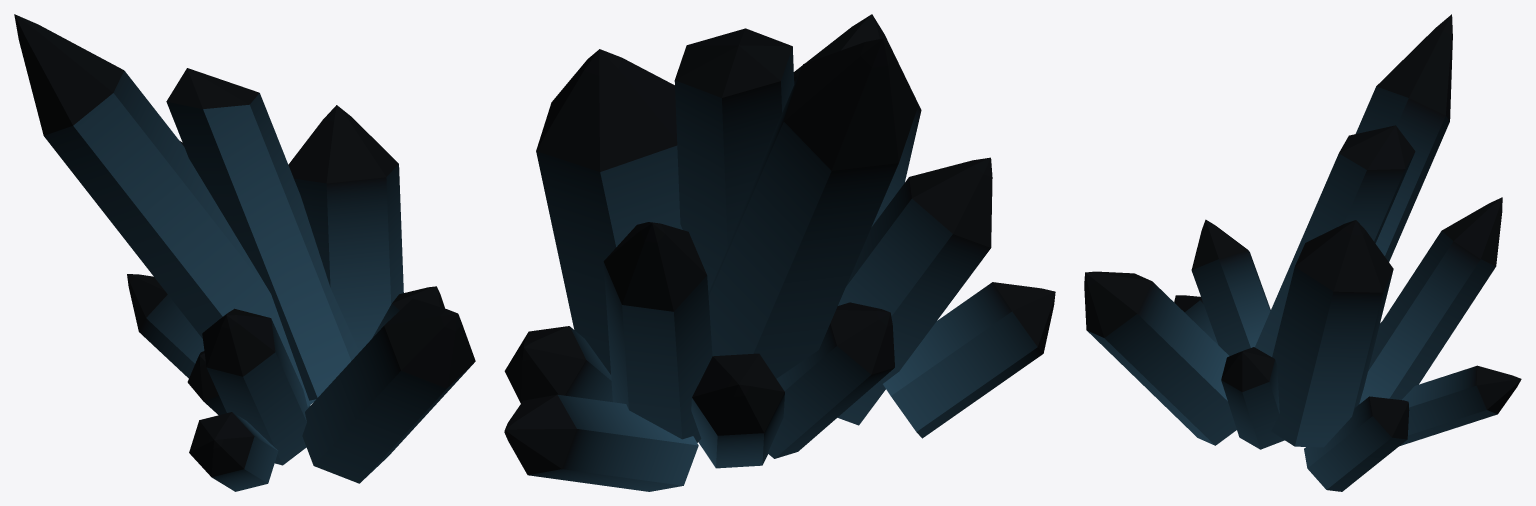
Rendered from CrystalCluster_Medium3.fbx.
3 views of the same model, side by side, from view 1: azimuth 30°, elevation 25°; view 2: azimuth 150°, elevation 25°; view 3: azimuth 270°, elevation 25° (orthographic). The views are drawn at different scales.
Visible parts, largest first — view 1: CrystalCluster_Medium3; view 2: CrystalCluster_Medium3; view 3: CrystalCluster_Medium3.
Boxes of the visible parts, bbox=[...] form: CrystalCluster_Medium3: bbox=[14, 14, 475, 491]; CrystalCluster_Medium3: bbox=[504, 14, 1055, 491]; CrystalCluster_Medium3: bbox=[1084, 14, 1521, 491].
Bounding box in the file's own units: 138 × 180 × 197.
